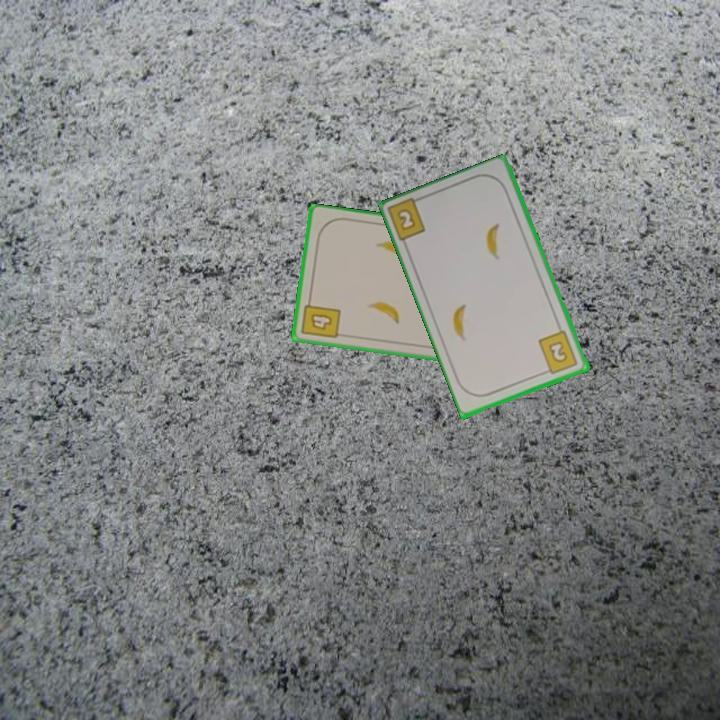2b: (535, 327, 581, 377), (393, 205, 419, 233)
4b: (298, 294, 343, 342)
